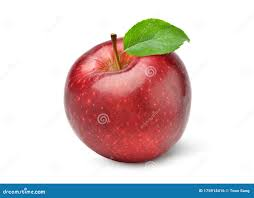apple: (62, 36, 195, 166)
